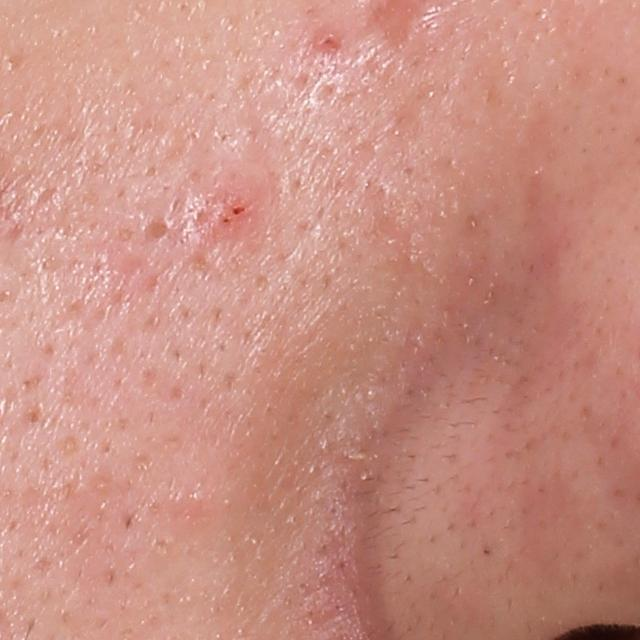comedo: (134, 211, 177, 255)
